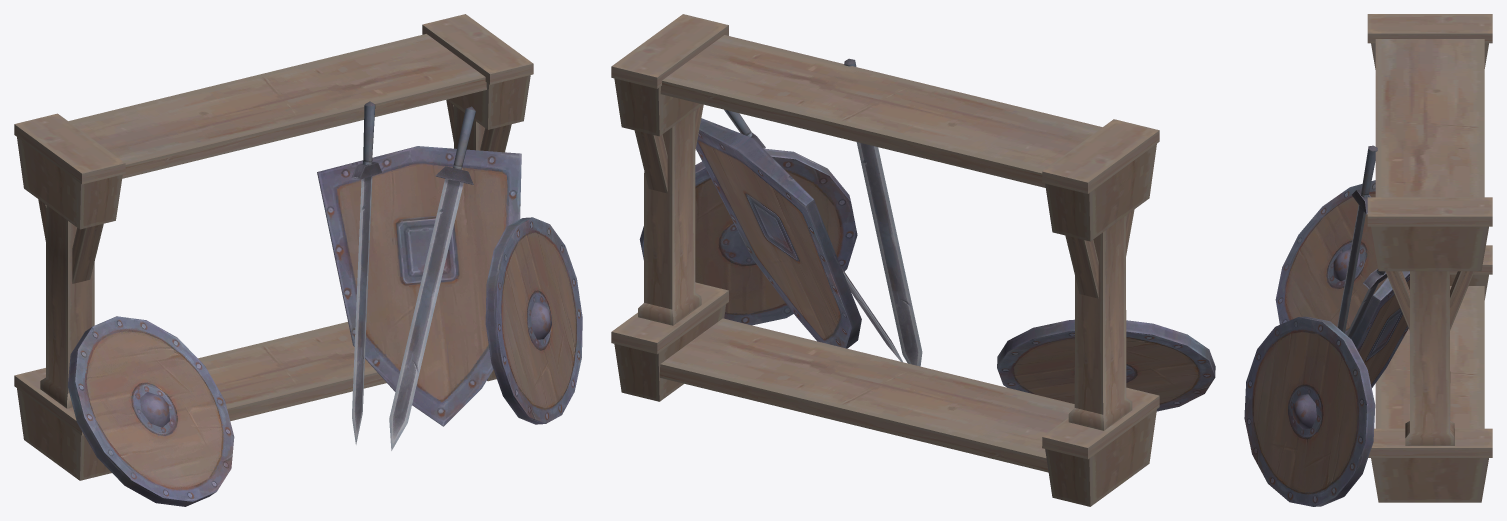
The model's file is Homeworld_Exterior_Md_Decoration_Woodenshelf_02_Vo.fbx.
3 views of the same model, side by side, from view 1: azimuth 30°, elevation 25°; view 2: azimuth 150°, elevation 25°; view 3: azimuth 270°, elevation 25° (orthographic). The views are drawn at different scales.
Visible parts, largest first — view 1: Homeworld_Exterior_Md_Decoration_Woodenshelf_02_Vo; view 2: Homeworld_Exterior_Md_Decoration_Woodenshelf_02_Vo; view 3: Homeworld_Exterior_Md_Decoration_Woodenshelf_02_Vo.
Boxes of the visible parts, x1=… form: Homeworld_Exterior_Md_Decoration_Woodenshelf_02_Vo: x1=14, y1=14, x2=582, y2=506; Homeworld_Exterior_Md_Decoration_Woodenshelf_02_Vo: x1=611, y1=14, x2=1215, y2=506; Homeworld_Exterior_Md_Decoration_Woodenshelf_02_Vo: x1=1244, y1=14, x2=1492, y2=506.
Bounding box in the file's own units: 1.72 × 1.01 × 0.7733.
1 material, 1 textured.
